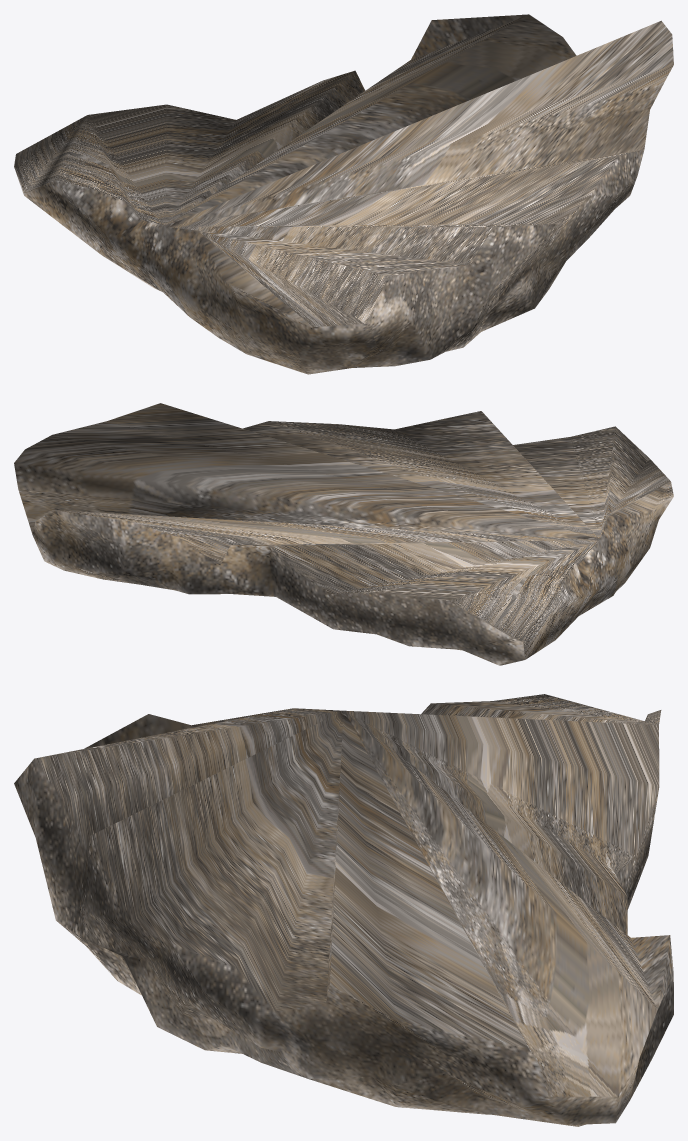
File: stenasverhu4kamen.fbx
3 views of the same model, one above another, from view 1: azimuth 30°, elevation 25°; view 2: azimuth 150°, elevation 25°; view 3: azimuth 270°, elevation 25° (orthographic). The views are drawn at different scales.
Visible parts, largest first — view 1: rock.001; view 2: rock.001; view 3: rock.001.
Part boxes in pixels (box(x1,y1,x2,y2)): rock.001: box(14, 14, 673, 374); rock.001: box(14, 403, 673, 665); rock.001: box(14, 694, 673, 1126).
Size of the model in its own units: 97.71 by 21.27 by 71.53.
